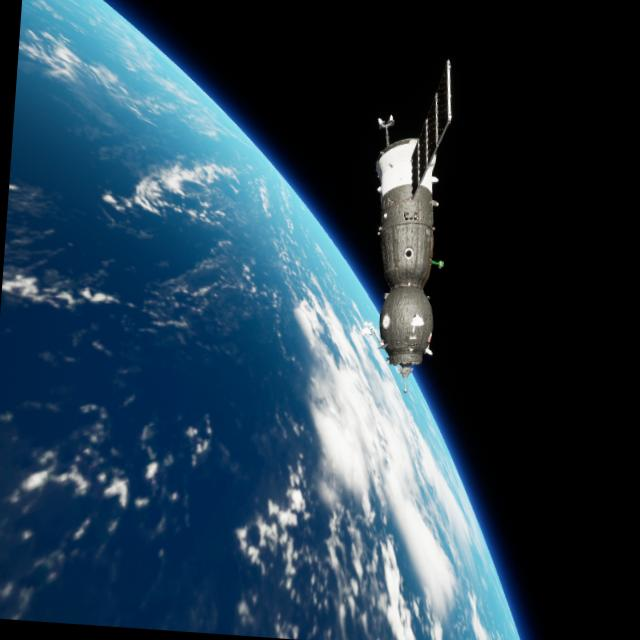Satellites revolving around earth: (354, 51, 462, 398)
